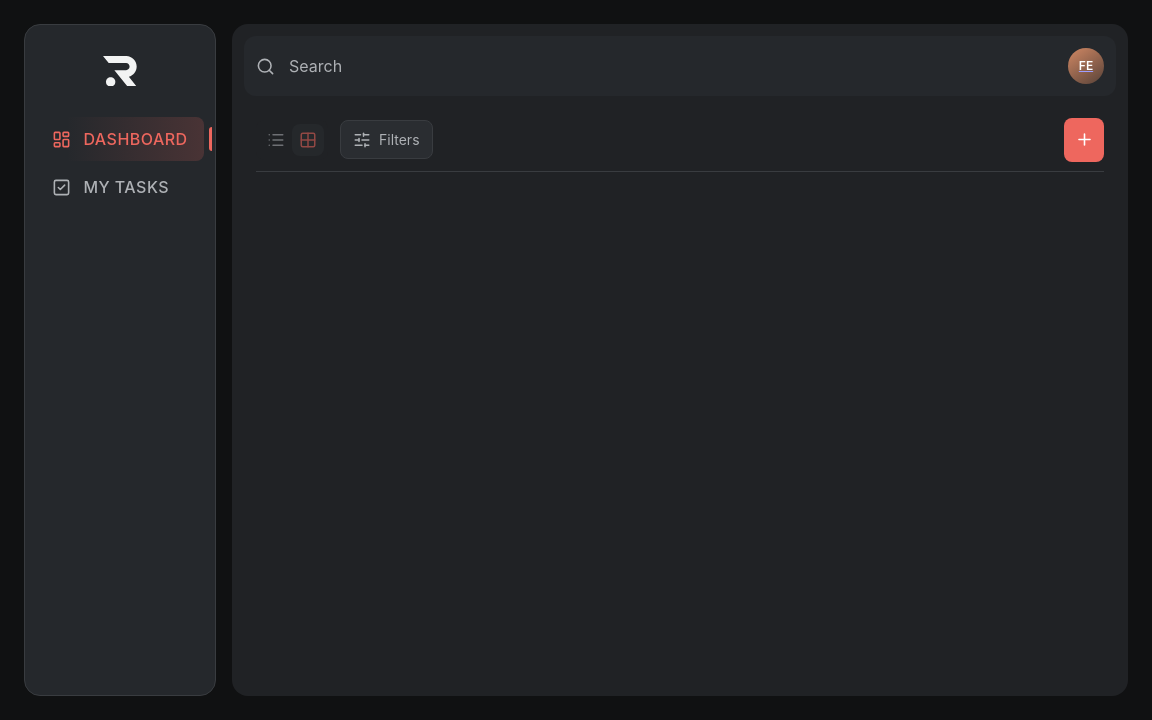
Scenario: AppLayout task creation › assigns the draft to a teammate loaded from the API
Click the button named "Add task" at point(1084, 140), box [1064,118,1104,162]
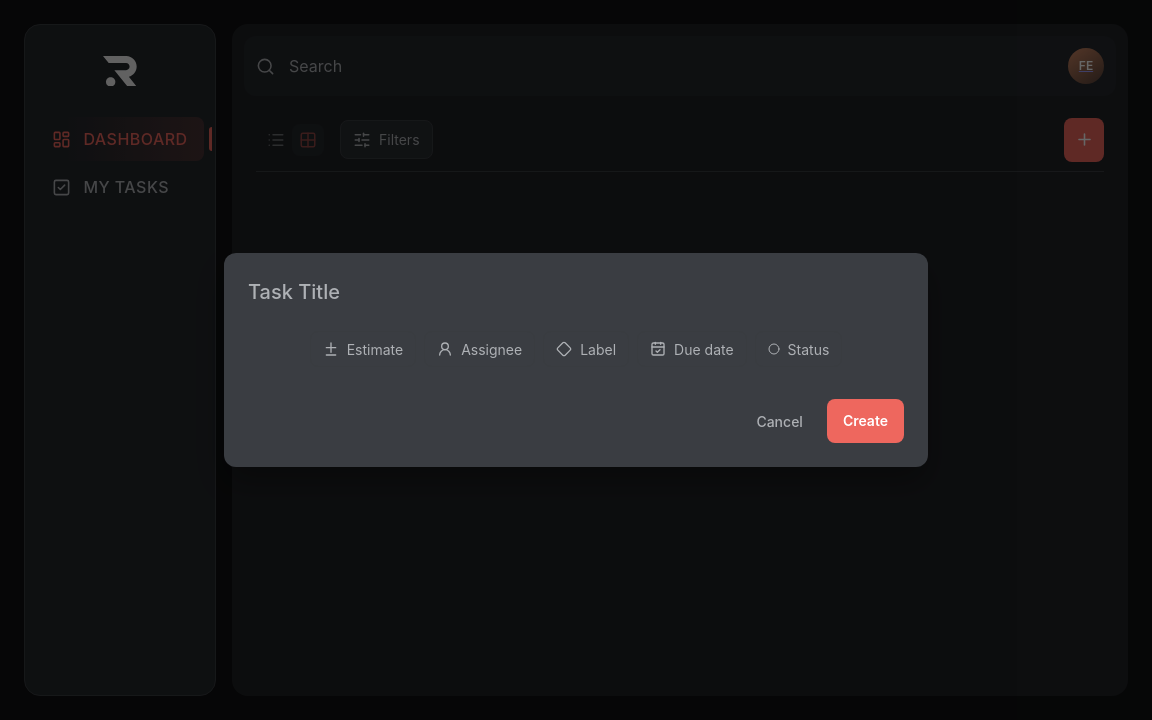
Click the button "Assignee" at point(480, 349), box [424,331,535,367]
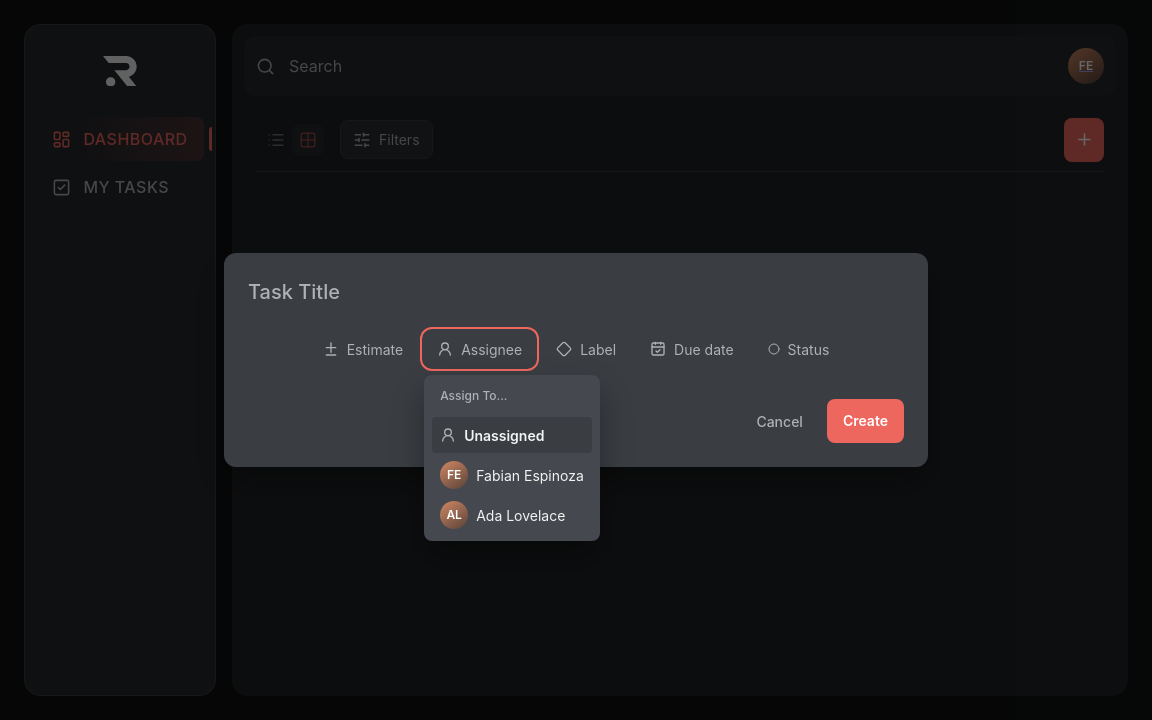
Click the button "AL Ada Lovelace" at point(512, 515), box [432,497,592,533]
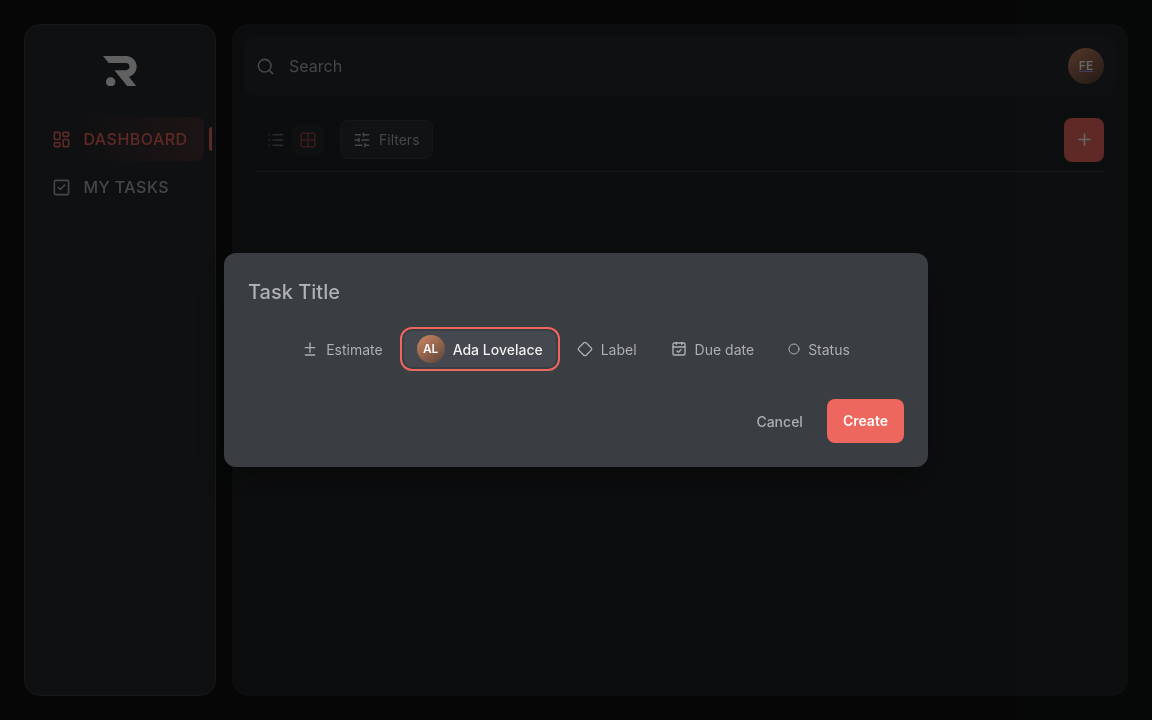
Check: the button with aria-label "Assignee: Ada Lovelace" is shown, box [404,331,556,367]
